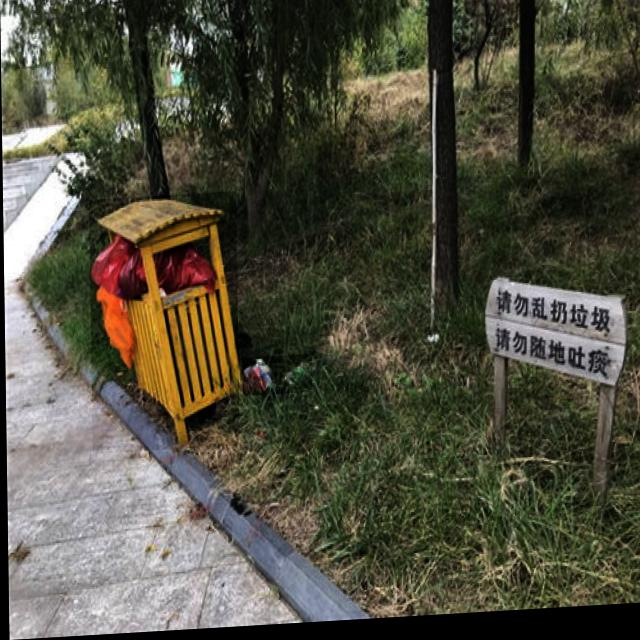garbage: (241, 358, 311, 399)
overflow: (88, 194, 238, 455)
